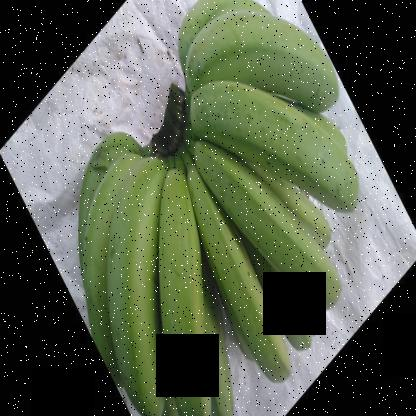unripe: (186, 83, 378, 220), (233, 140, 351, 312), (171, 8, 342, 116), (196, 192, 290, 380), (106, 148, 170, 415), (154, 165, 212, 415), (75, 142, 121, 340), (167, 0, 265, 37)
